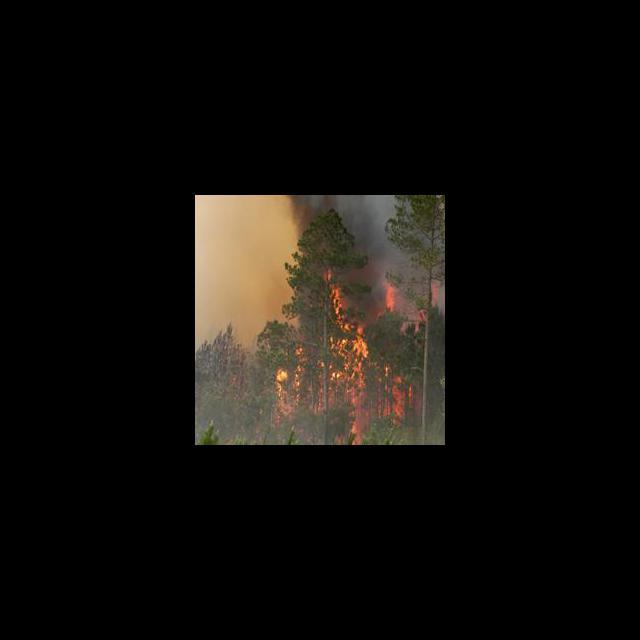Fire: (266, 269, 371, 444), (373, 356, 417, 424), (382, 280, 398, 310), (430, 277, 440, 306)
